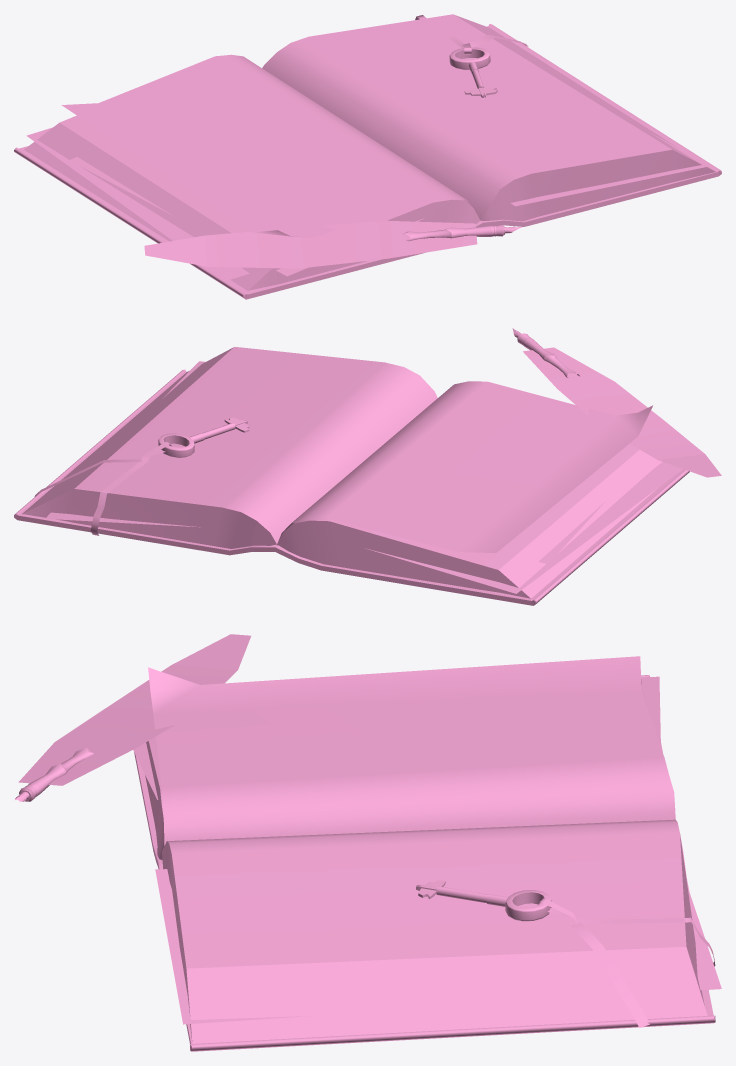
The model's file is book.fbx.
3 renders of one model, top to bottom at view 1: azimuth 30°, elevation 25°; view 2: azimuth 150°, elevation 25°; view 3: azimuth 270°, elevation 25°, orthographic. The views are drawn at different scales.
Parts seen in each view (by area): view 1: Book_sheets; view 2: Book_sheets; view 3: Book_sheets.
Part boxes in pixels (x1,y1,x2,y2): Book_sheets: [14, 14, 721, 299]; Book_sheets: [14, 328, 721, 605]; Book_sheets: [14, 634, 721, 1051].
Size of the model in its own units: 87.67 by 10.46 by 73.03.
